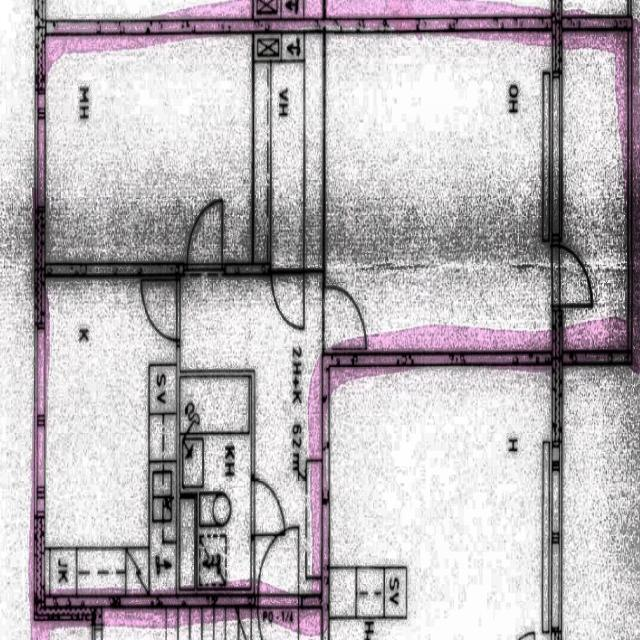Doors-dC8s: (182, 263, 227, 278), (551, 243, 560, 315), (268, 260, 304, 277), (322, 297, 328, 358), (250, 476, 256, 533), (260, 600, 298, 608), (178, 279, 180, 351)
Window: (542, 437, 562, 631), (545, 74, 559, 245)
